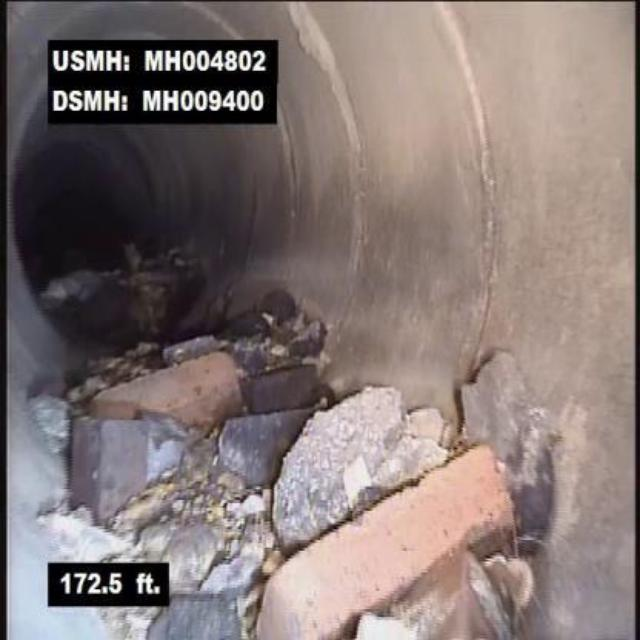Obstacle: (258, 343, 580, 638), (57, 337, 254, 525)
